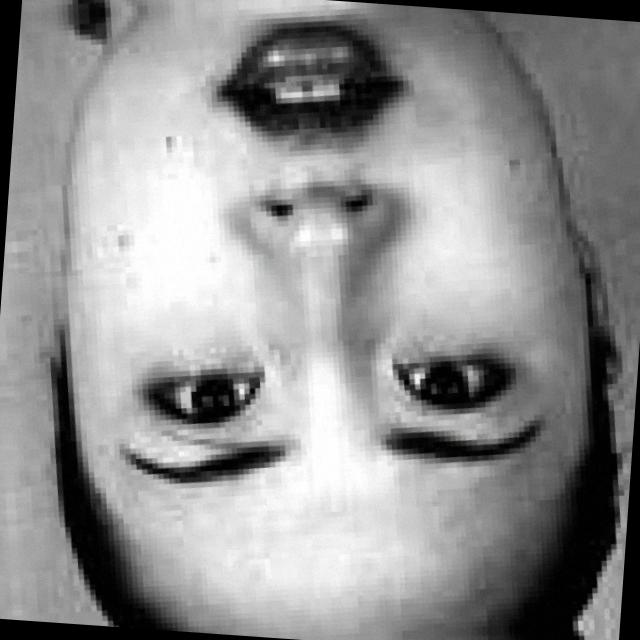fear: (62, 0, 584, 609)
